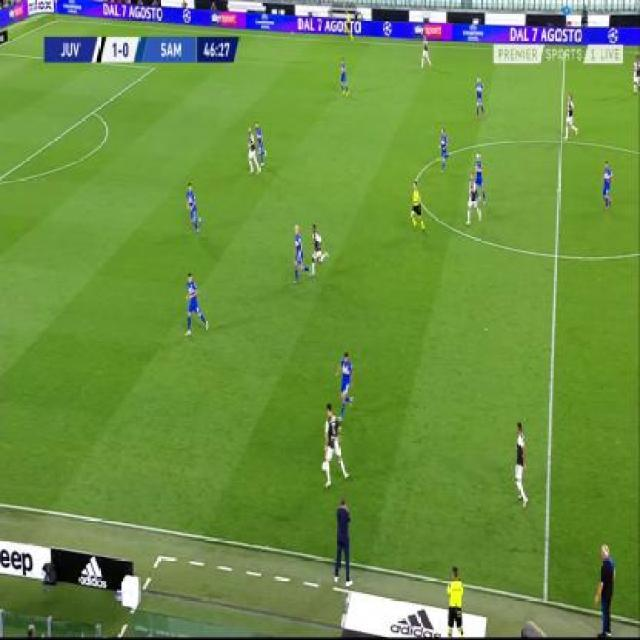ball: (321, 461, 326, 474)
player: (593, 540, 619, 637), (321, 403, 349, 489), (332, 492, 354, 586), (511, 417, 531, 508), (445, 560, 467, 637), (184, 271, 209, 337), (335, 348, 354, 422), (292, 223, 312, 283), (308, 221, 330, 275), (410, 178, 426, 234), (185, 181, 201, 235), (465, 172, 481, 226), (563, 91, 579, 139), (600, 158, 614, 212), (474, 152, 487, 206), (254, 121, 268, 169), (438, 126, 452, 174), (246, 128, 260, 176), (473, 74, 486, 120), (338, 55, 351, 97), (419, 31, 432, 70), (343, 8, 354, 41), (631, 52, 639, 97)
